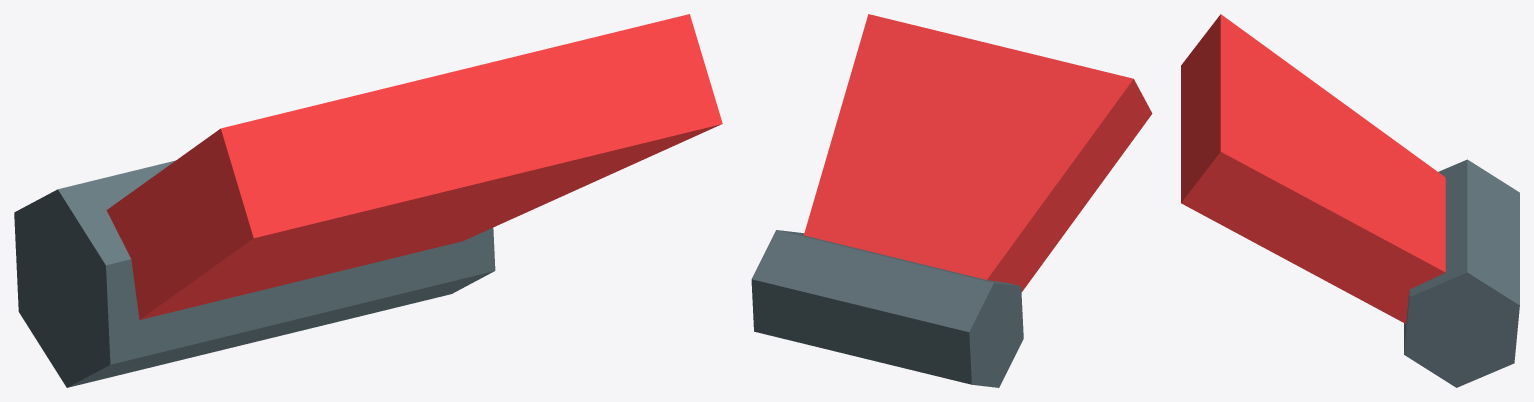
The model's file is Terminal_014_switch_003.fbx.
3 views of the same model, side by side, from view 1: azimuth 30°, elevation 25°; view 2: azimuth 150°, elevation 25°; view 3: azimuth 270°, elevation 25° (orthographic). The views are drawn at different scales.
Visible parts, largest first — view 1: Terminal_014_switch_003; view 2: Terminal_014_switch_003; view 3: Terminal_014_switch_003.
Boxes of the visible parts, box(x1,y1,x2,y2) form: Terminal_014_switch_003: box(14, 14, 722, 387); Terminal_014_switch_003: box(751, 14, 1152, 387); Terminal_014_switch_003: box(1181, 14, 1519, 387).
Size of the model in its own units: 5.62 by 5.85 by 4.74.
